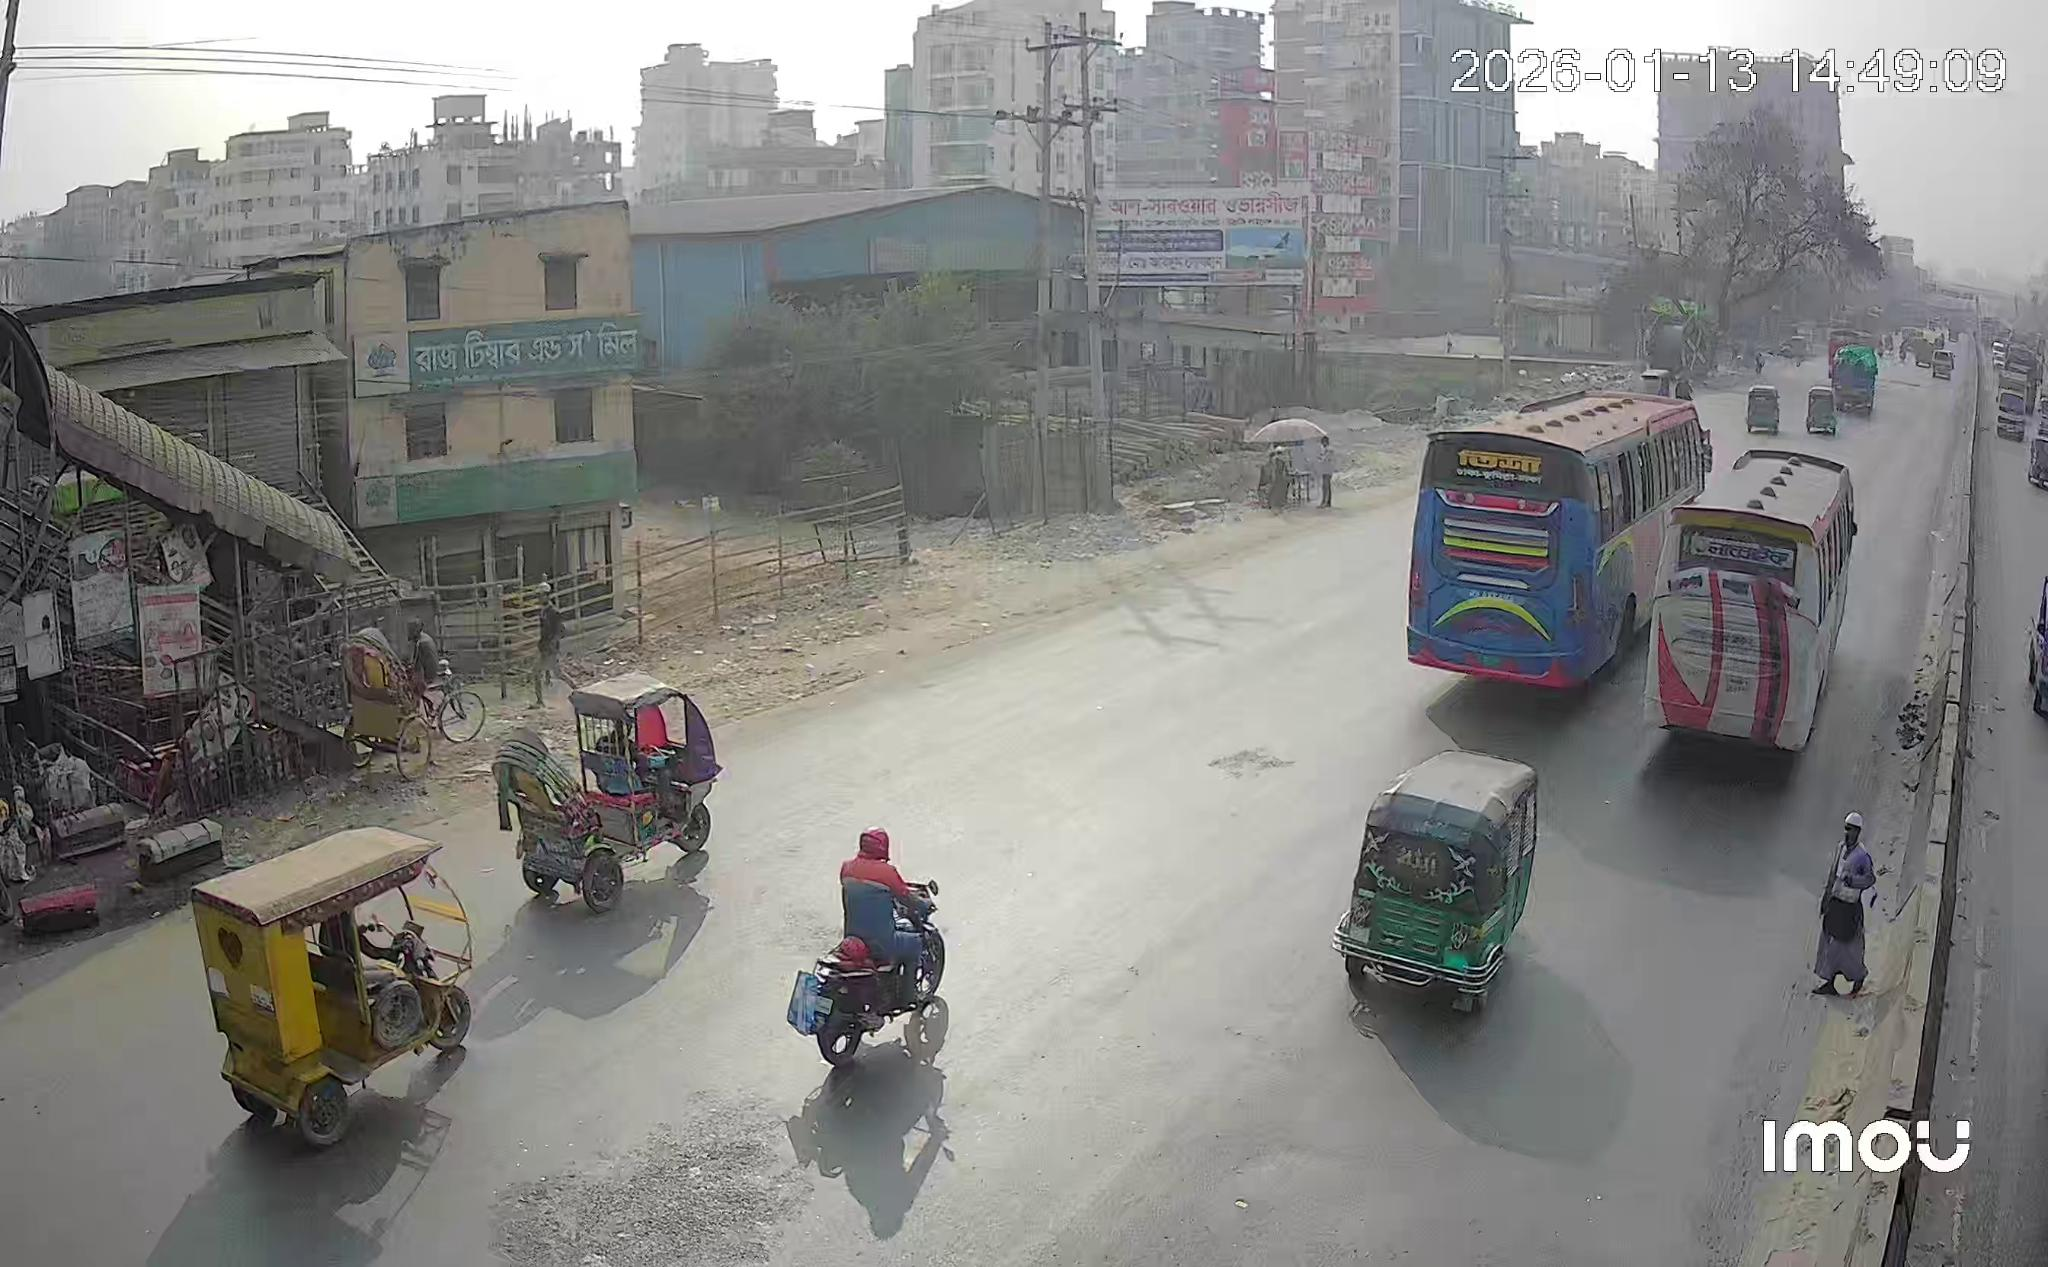Auto Rickshaw: (192, 830, 473, 1143), (492, 674, 723, 913)
Bus: (1407, 392, 1855, 751)
CNG-Tempo: (1333, 749, 1537, 1010)
Motorcycle: (788, 828, 944, 1065)
